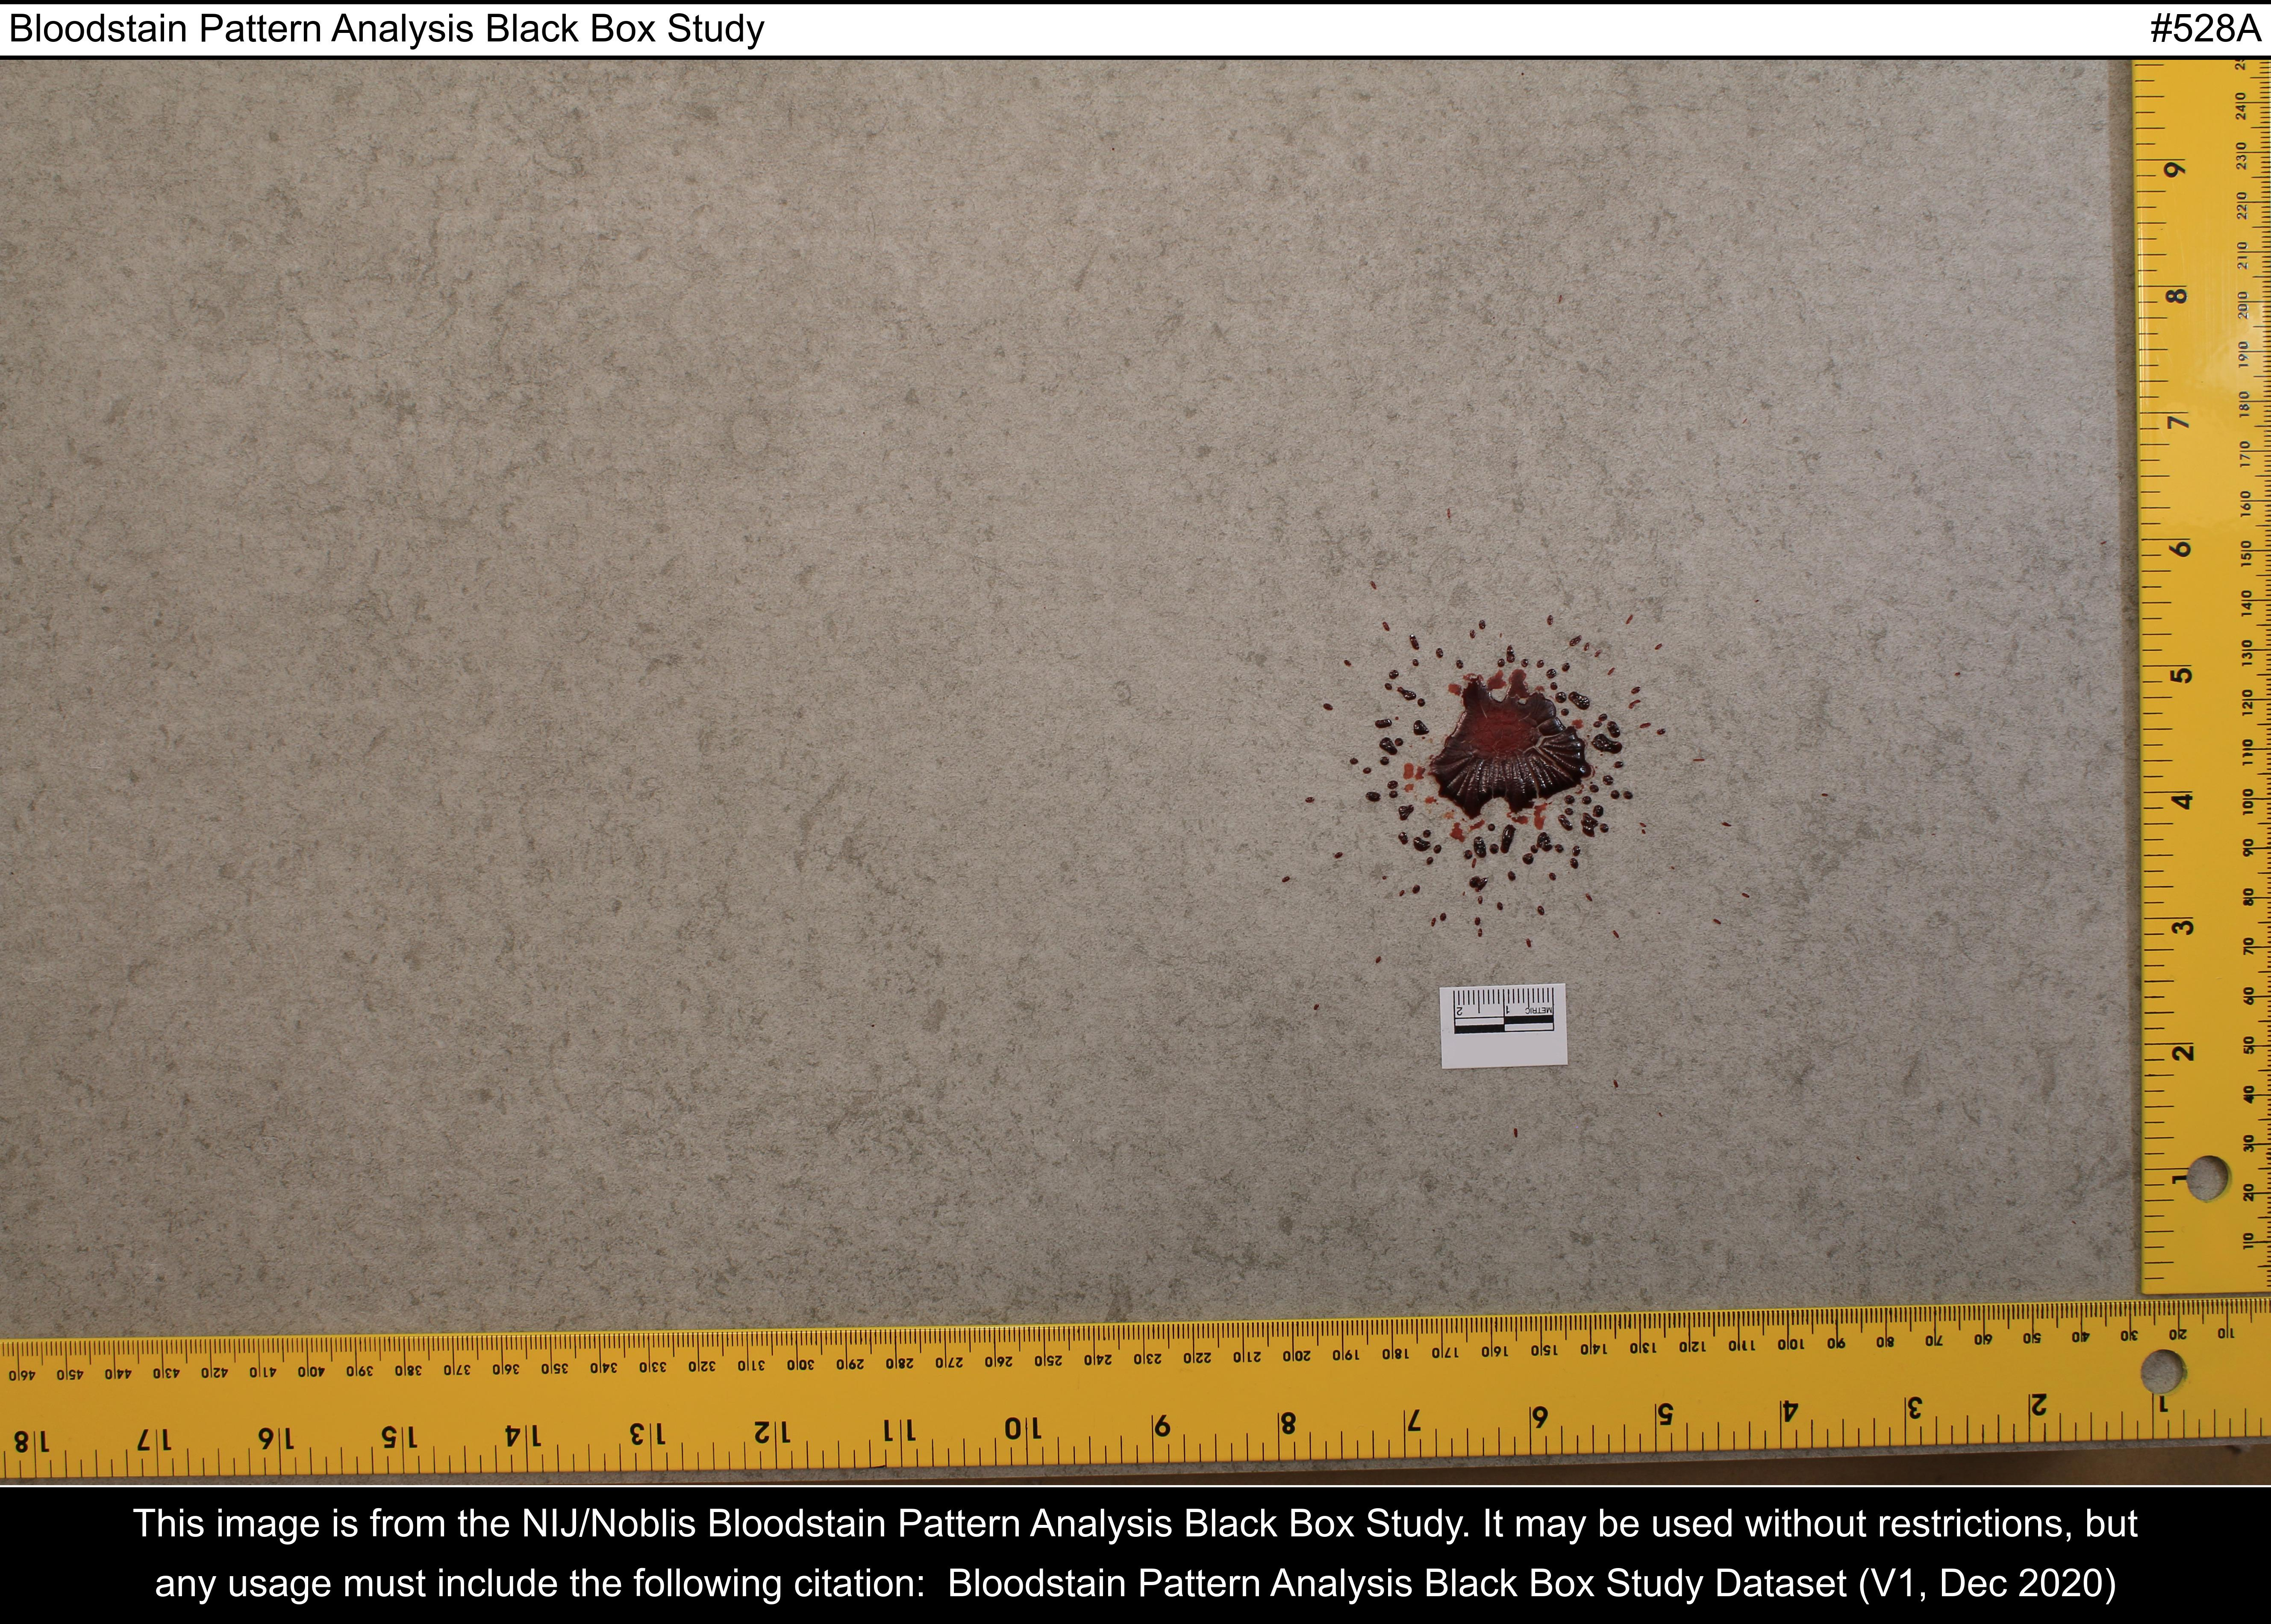Passive: (1339, 638, 1654, 900)
